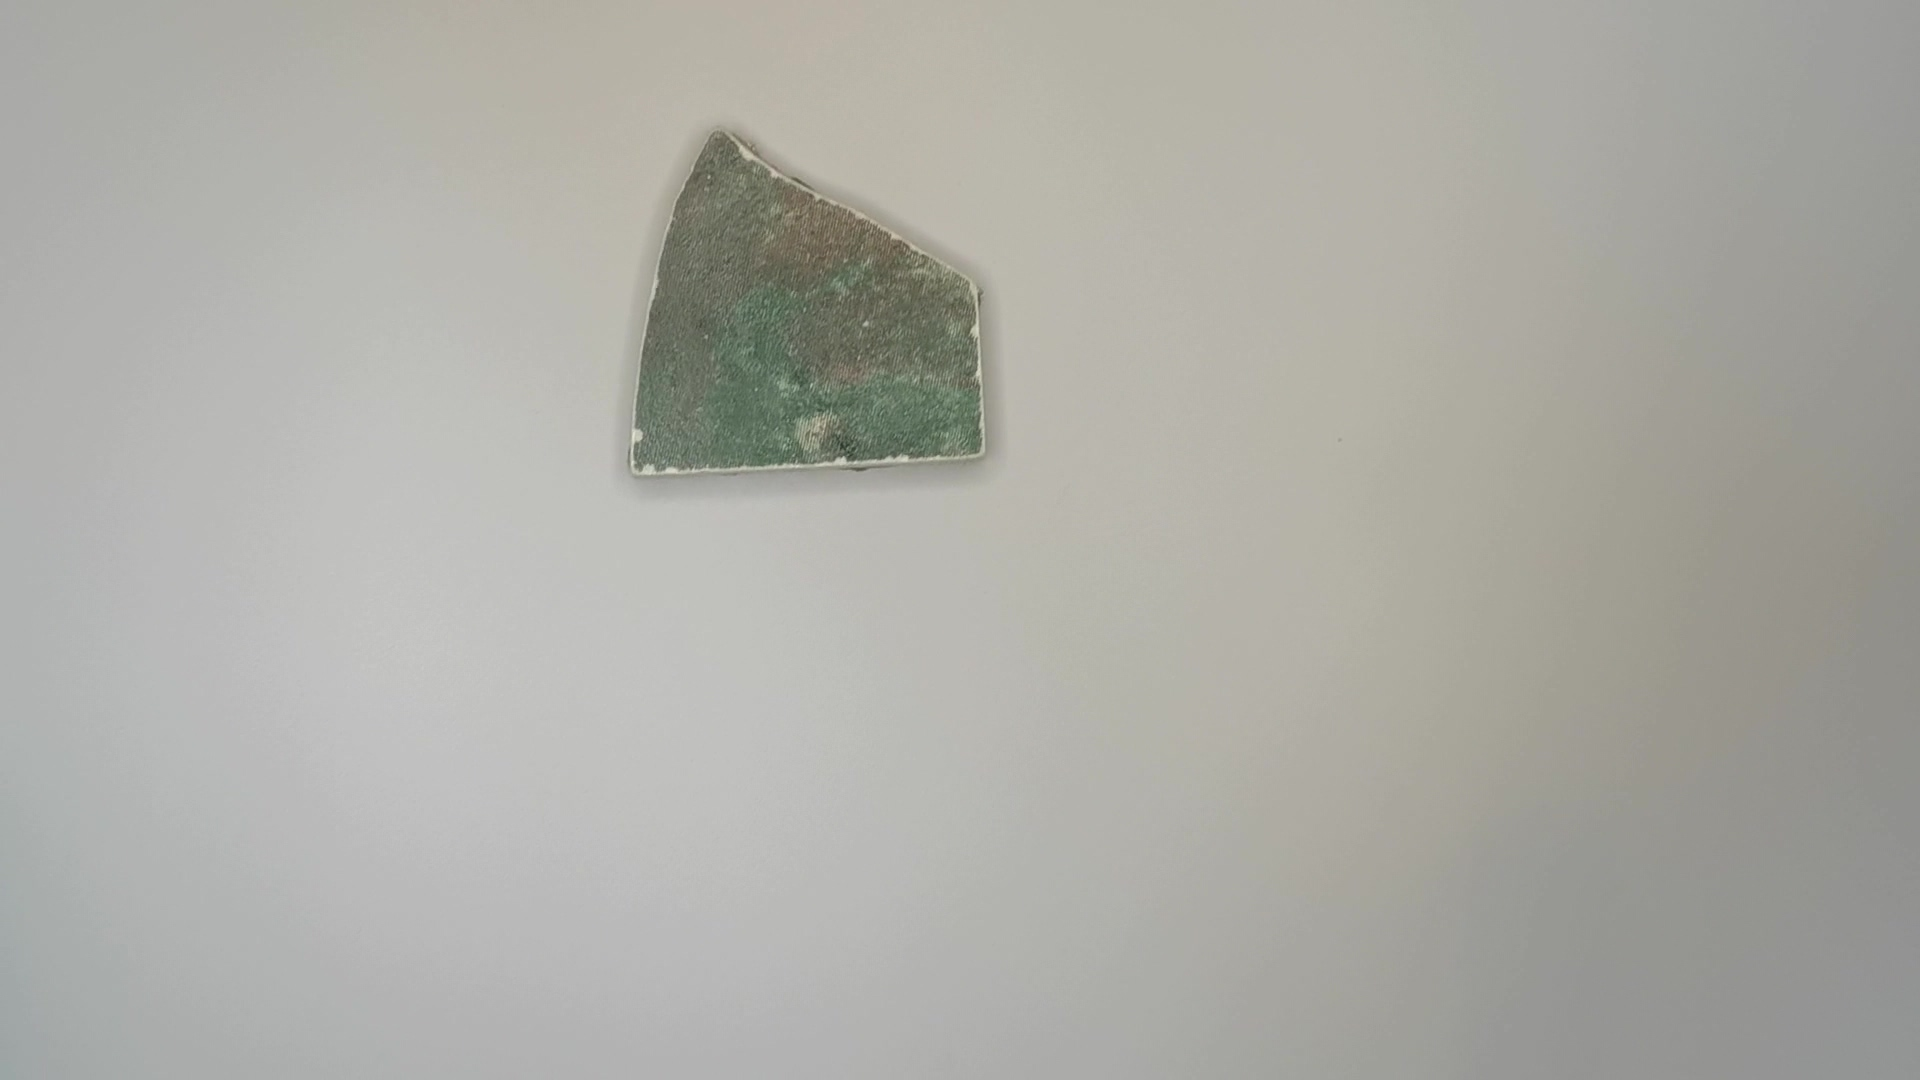ceramic: (615, 127, 996, 485)
